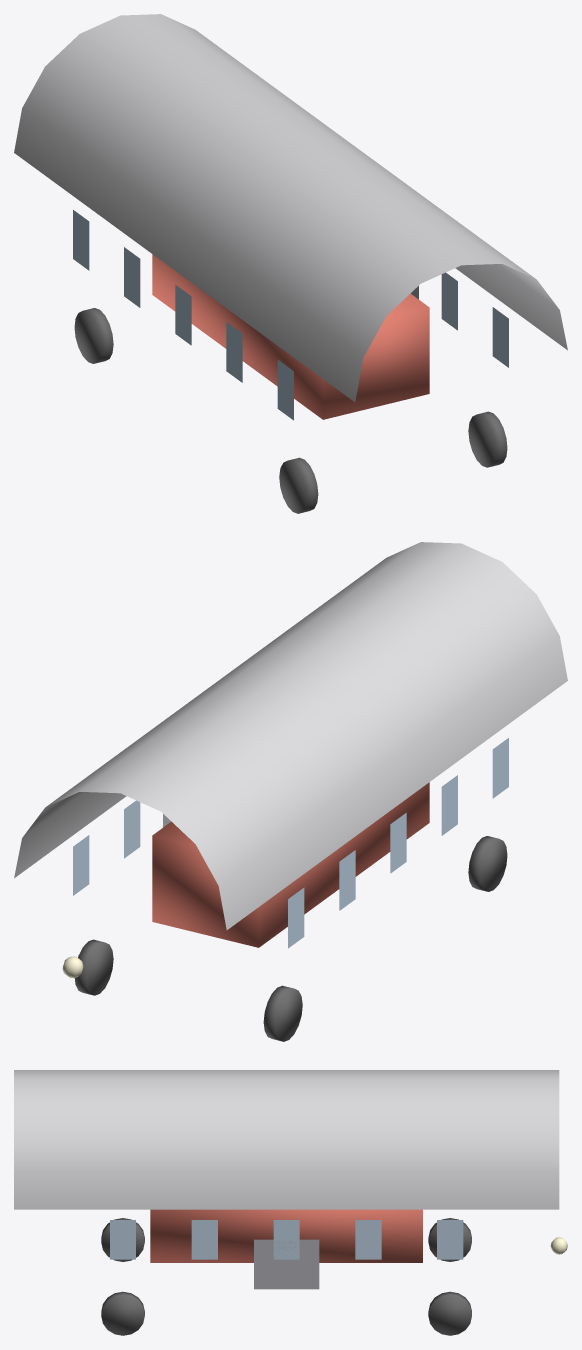
Rendered from mesh_train_red.fbx.
3 views of the same model, one above another, from view 1: azimuth 30°, elevation 25°; view 2: azimuth 150°, elevation 25°; view 3: azimuth 270°, elevation 25° (orthographic). The views are drawn at different scales.
Parts seen in each view (by area): view 1: mesh_train_red; view 2: mesh_train_red; view 3: mesh_train_red.
Part boxes in pixels (bbox=[...]): mesh_train_red: bbox=[14, 14, 567, 513]; mesh_train_red: bbox=[14, 542, 567, 1041]; mesh_train_red: bbox=[14, 1070, 567, 1335].
Bounding box in the file's own units: 1.82 × 2.2 × 5.08.
